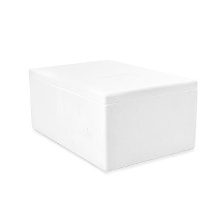foam_box: (22, 50, 207, 177)
